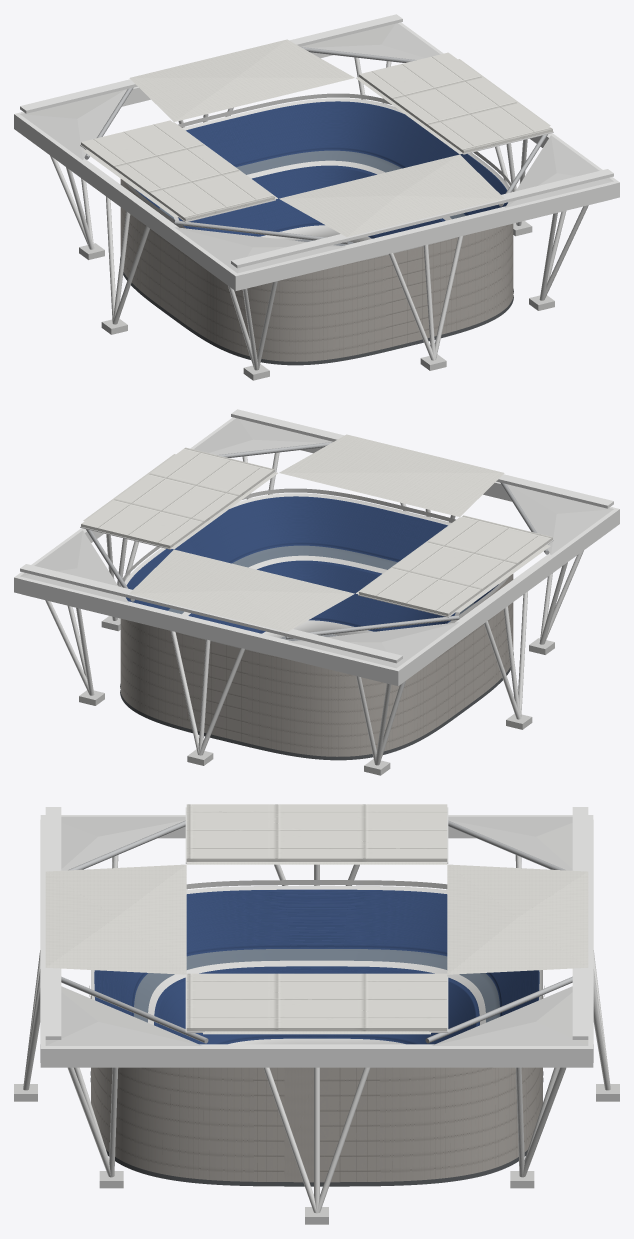
File: uso_open.glb
3 views of the same model, one above another, from view 1: azimuth 30°, elevation 25°; view 2: azimuth 150°, elevation 25°; view 3: azimuth 270°, elevation 25° (orthographic). The views are drawn at different scales.
Parts seen in each view (by area): view 1: Facade, Bowl, Panel1, Panel0, CanopyS, CanopyN, TrussS, TrussW, CornerDeck.001, GutterS, CornerDeck, CornerDeck.002 (+16 smaller); view 2: Facade, Bowl, Panel1, Panel0, CanopyN, CanopyS, TrussN, TrussW, CornerDeck, GutterN, CornerDeck.001, CornerDeck.003 (+16 smaller); view 3: Facade, Bowl, Panel1, Panel0, CanopyN, CanopyS, TrussE, CornerDeck.002, CornerDeck.003, CornerDeck, CornerDeck.001, GutterN (+21 smaller).
Part boxes in pixels (x1,y1,x2,y2): Facade: (120,179,513,361); Bowl: (135,98,509,242); Panel1: (359,52,552,153); Panel0: (81,120,274,221); CanopyS: (279,154,504,236); CanopyN: (129,39,354,121); TrussS: (241,182,612,289); TrussW: (14,112,243,290); CornerDeck.001: (20,89,127,159); GutterS: (231,169,613,268); CornerDeck: (175,227,345,273); CornerDeck.002: (505,135,613,207); Facade: (120,574,513,756); Bowl: (124,493,498,637); Panel1: (81,447,274,548); Panel0: (359,515,552,616); CanopyN: (129,549,354,631); CanopyS: (279,434,504,516); TrussN: (21,577,392,684); TrussW: (390,507,619,685); CornerDeck: (506,484,613,554); GutterN: (20,564,402,663); CornerDeck.001: (288,622,458,668); CornerDeck.003: (20,530,128,602); Facade: (91,995,542,1182); Bowl: (91,885,542,1044); Panel1: (186,973,447,1031); Panel0: (186,804,447,861); CanopyN: (447,864,588,974); CanopyS: (45,864,186,974); TrussE: (40,1044,593,1067); CornerDeck.002: (45,986,201,1045); CornerDeck.003: (432,986,588,1045); CornerDeck: (61,816,185,870); CornerDeck.001: (448,816,572,870); GutterN: (572,807,588,1039).
Size of the model in its own units: 177 by 58.1 by 177.
Materials: 12 (3 with a texture image).
